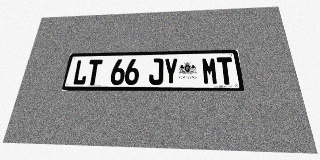6: (110, 59, 126, 85), (124, 59, 140, 85)
J: (148, 58, 163, 85)
L: (72, 60, 89, 85)
M: (201, 57, 219, 85)
T: (216, 57, 235, 85), (85, 59, 103, 85)
Y: (164, 58, 178, 85)
